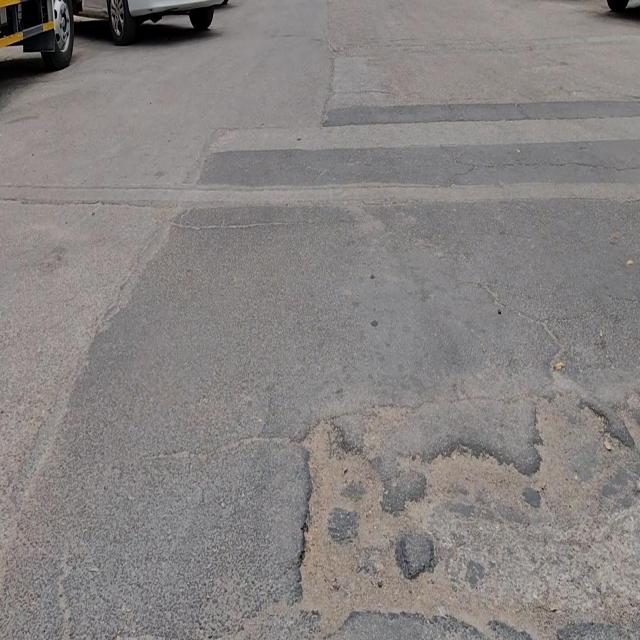Potholes: (394, 436, 541, 638), (295, 410, 417, 639)
